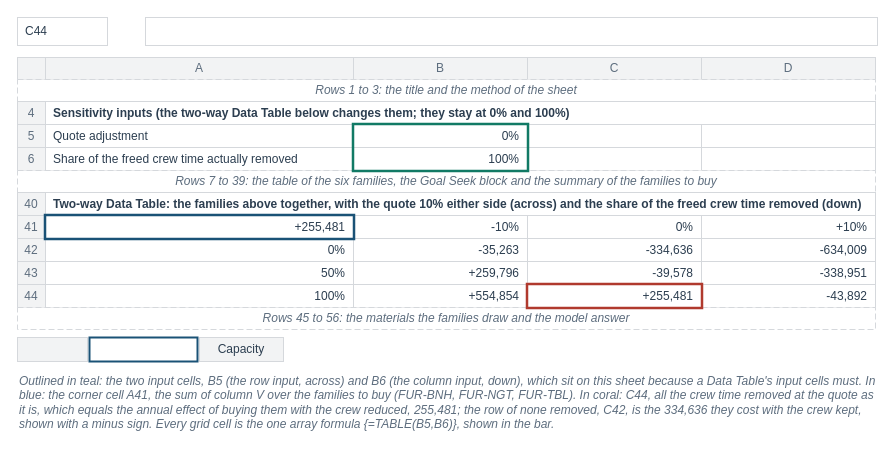
The diagram is 895 pixels wide and 455 high, and some of its shapes have lost their labels. The centre of each missing label's shape, as x and y in pixels:
"Costs" belongs at (52,349).
"fx" belongs at (126,31).
"Make or Buy" belongs at (143,349).
"{=TABLE(B5,B6)}" belongs at (511,31).
